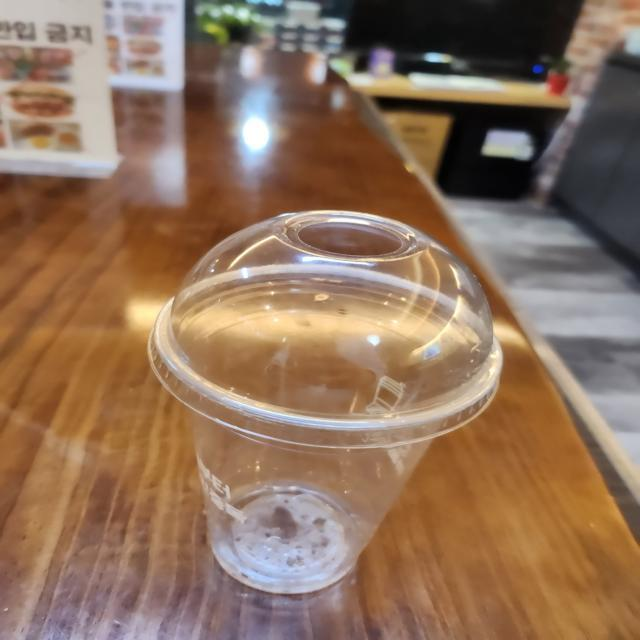plastic_cup_lid: (128, 201, 536, 457)
